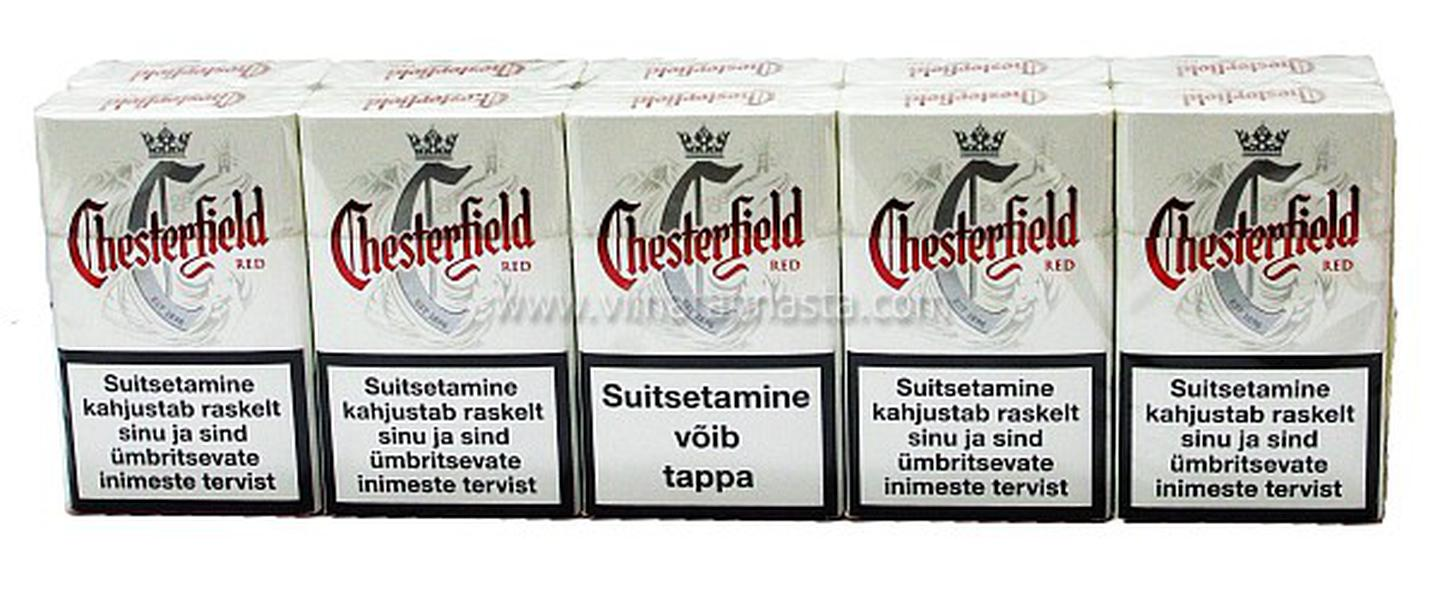chesterfield_red: (840, 121, 1110, 524), (303, 118, 577, 511), (570, 118, 837, 521), (1117, 118, 1383, 521), (57, 124, 313, 514)
